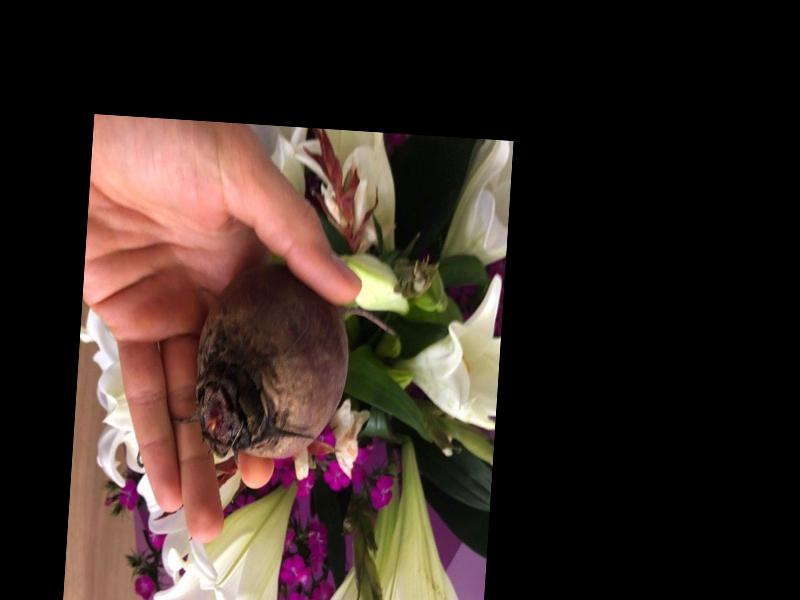Beet: (190, 259, 400, 466)
